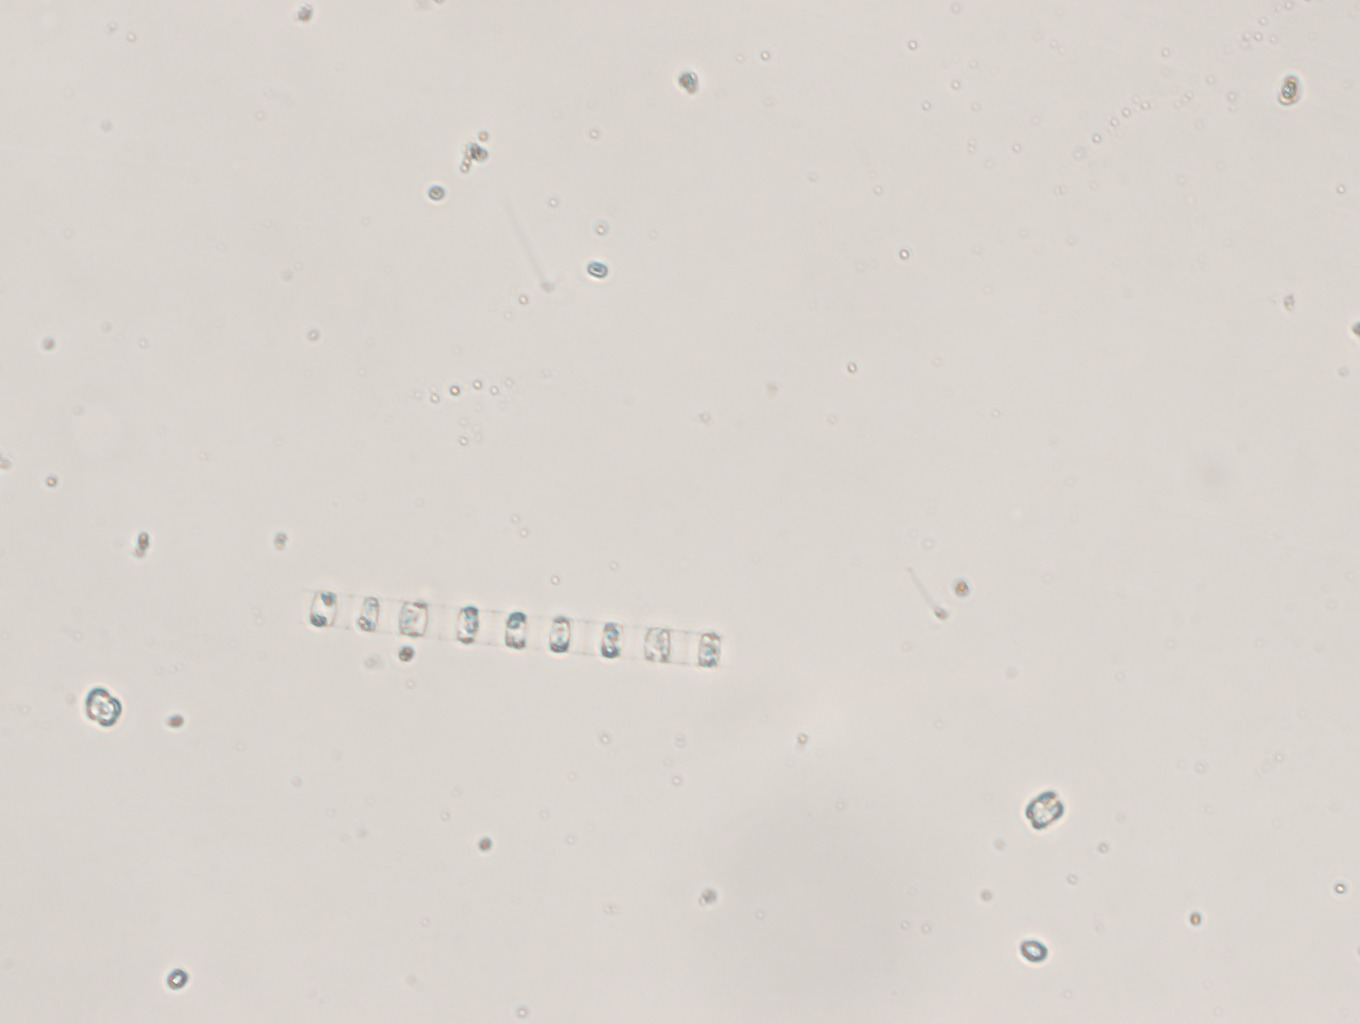skeletonema: (299, 578, 796, 687)
